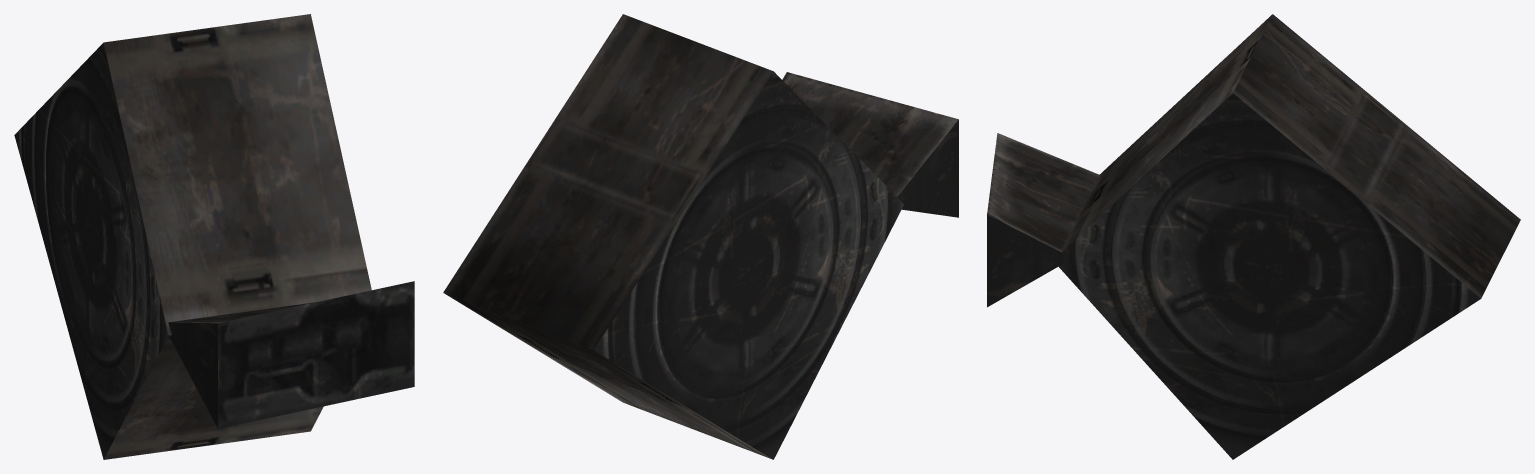
File: t6_attach_mag_type05_lmg_world_LOD2.obj
The picture shows the model from 3 angles, left to right: view 1: azimuth 30°, elevation 25°; view 2: azimuth 150°, elevation 25°; view 3: azimuth 270°, elevation 25°; orthographic projection. The views are drawn at different scales.
Visible parts, largest first — view 1: mtl_t6_wpn_lmg_type95_drum; view 2: mtl_t6_wpn_lmg_type95_drum; view 3: mtl_t6_wpn_lmg_type95_drum.
Boxes of the visible parts, x1,y1,x2,y2 form: mtl_t6_wpn_lmg_type95_drum: [14, 14, 414, 459]; mtl_t6_wpn_lmg_type95_drum: [443, 14, 958, 459]; mtl_t6_wpn_lmg_type95_drum: [987, 14, 1520, 459].
Size of the model in its own units: 9.05 by 12.95 by 17.08.
